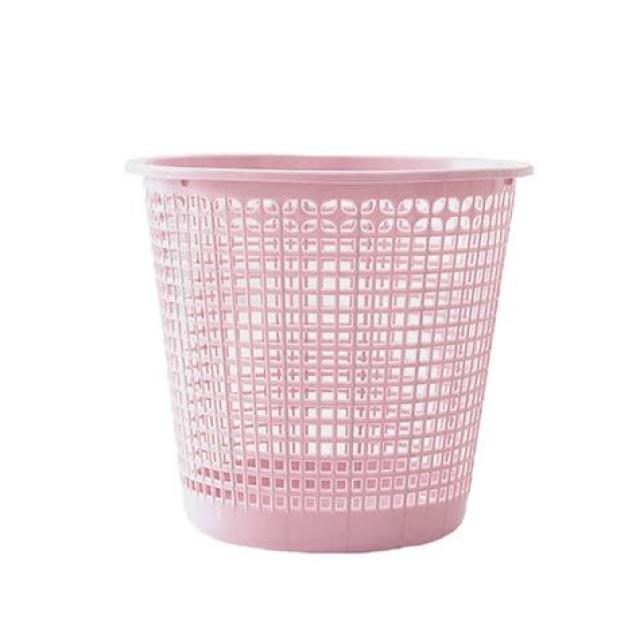dustbin: (122, 142, 538, 556)
